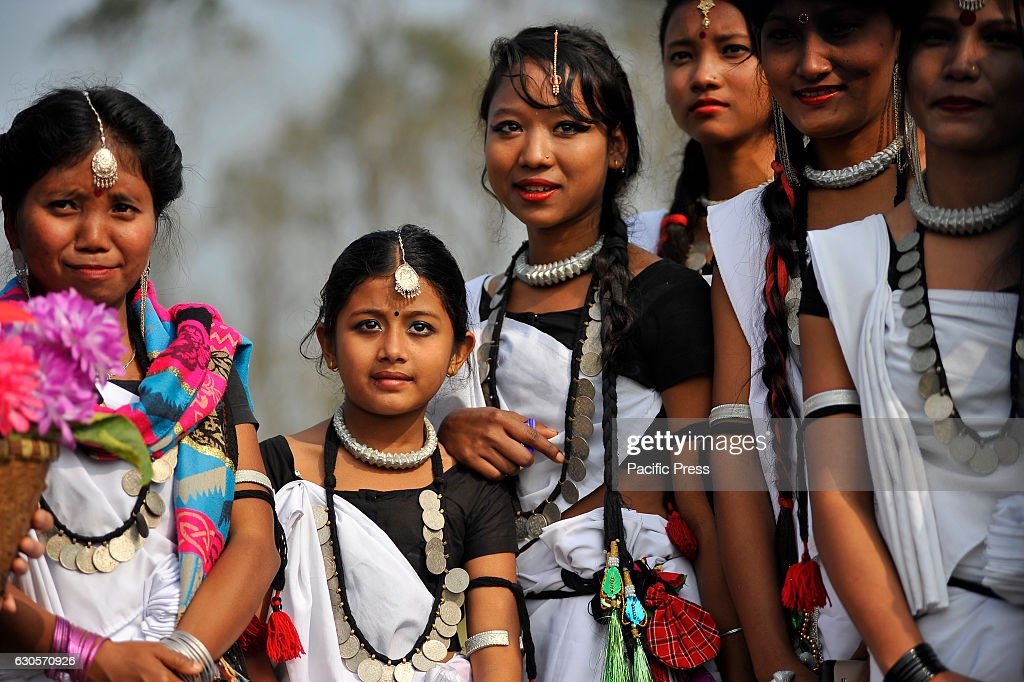human: (444, 11, 728, 682), (1, 73, 283, 682), (705, 1, 931, 682), (634, 2, 845, 682), (239, 215, 540, 682), (877, 1, 1024, 682)
